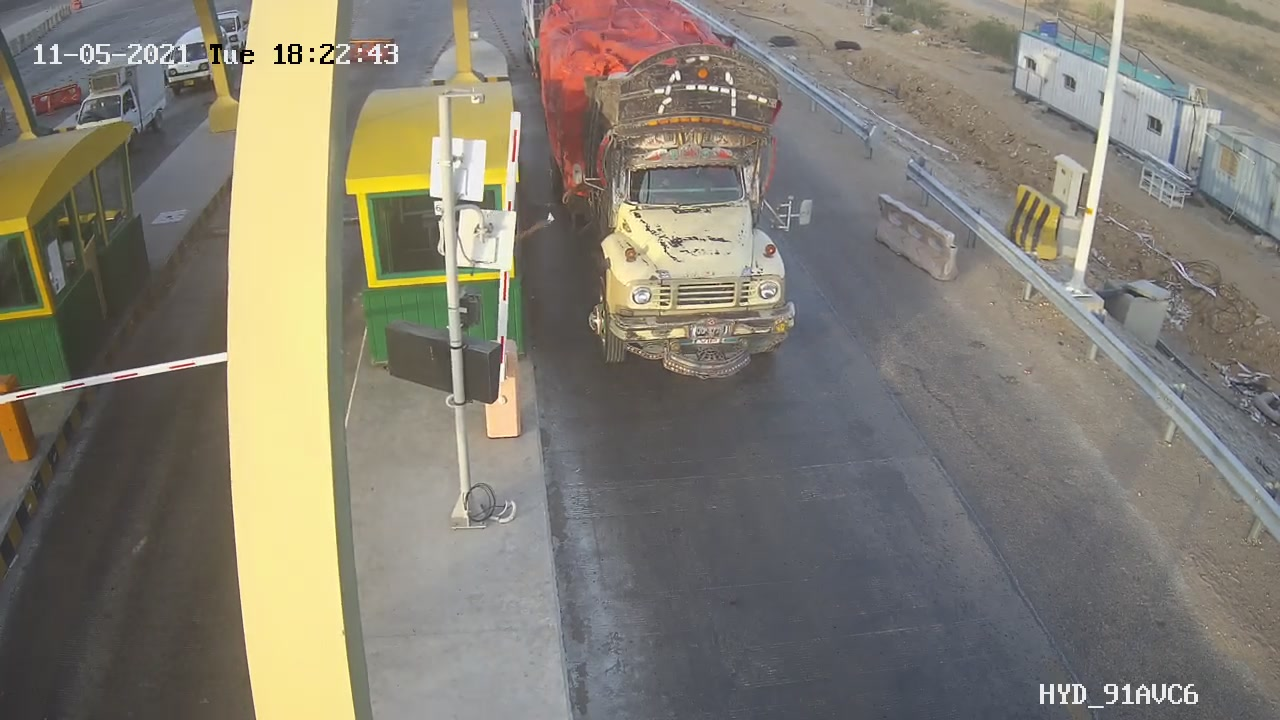F5: (539, 8, 822, 381)
